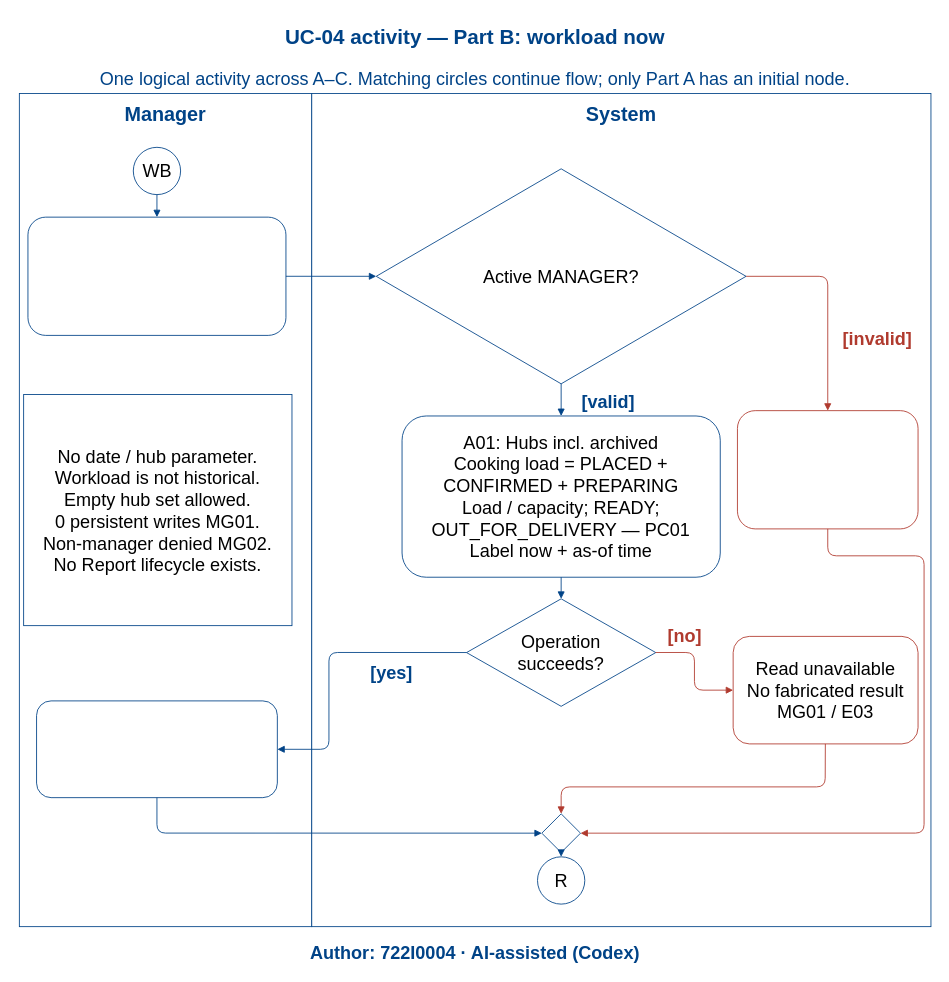
Some shapes in this 949 by 982 pixel diagram are drawn without their labels. The shapes that lost their labels are listed below. From the top down, each one's centre as x and y in pixels, then its label:
the point at 156,275: A01: workloadReport()
the point at 827,469: Refuse; no changes MG01/02 / E01–02
the point at 156,749: 5: Read current snapshot End or new request
